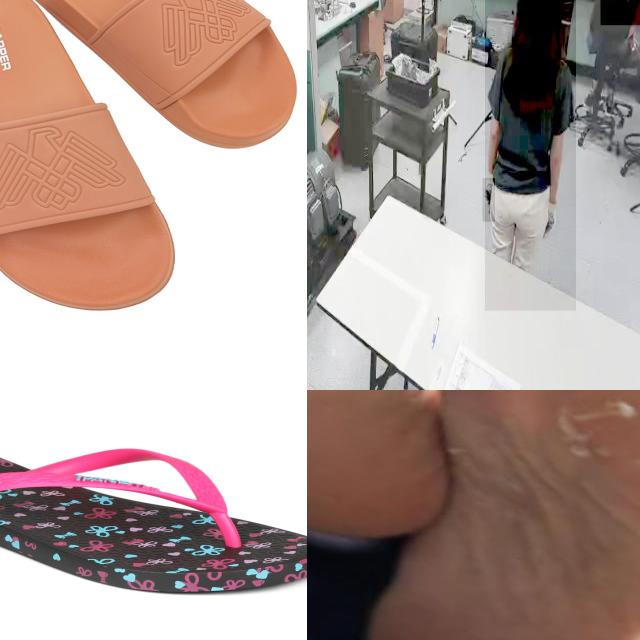Barefoots: (345, 390, 640, 640)
Sandals: (0, 0, 307, 323), (0, 440, 307, 596)
hand_glove: (482, 178, 496, 223), (544, 198, 558, 238)
person: (485, 0, 576, 311), (600, 0, 640, 26)
